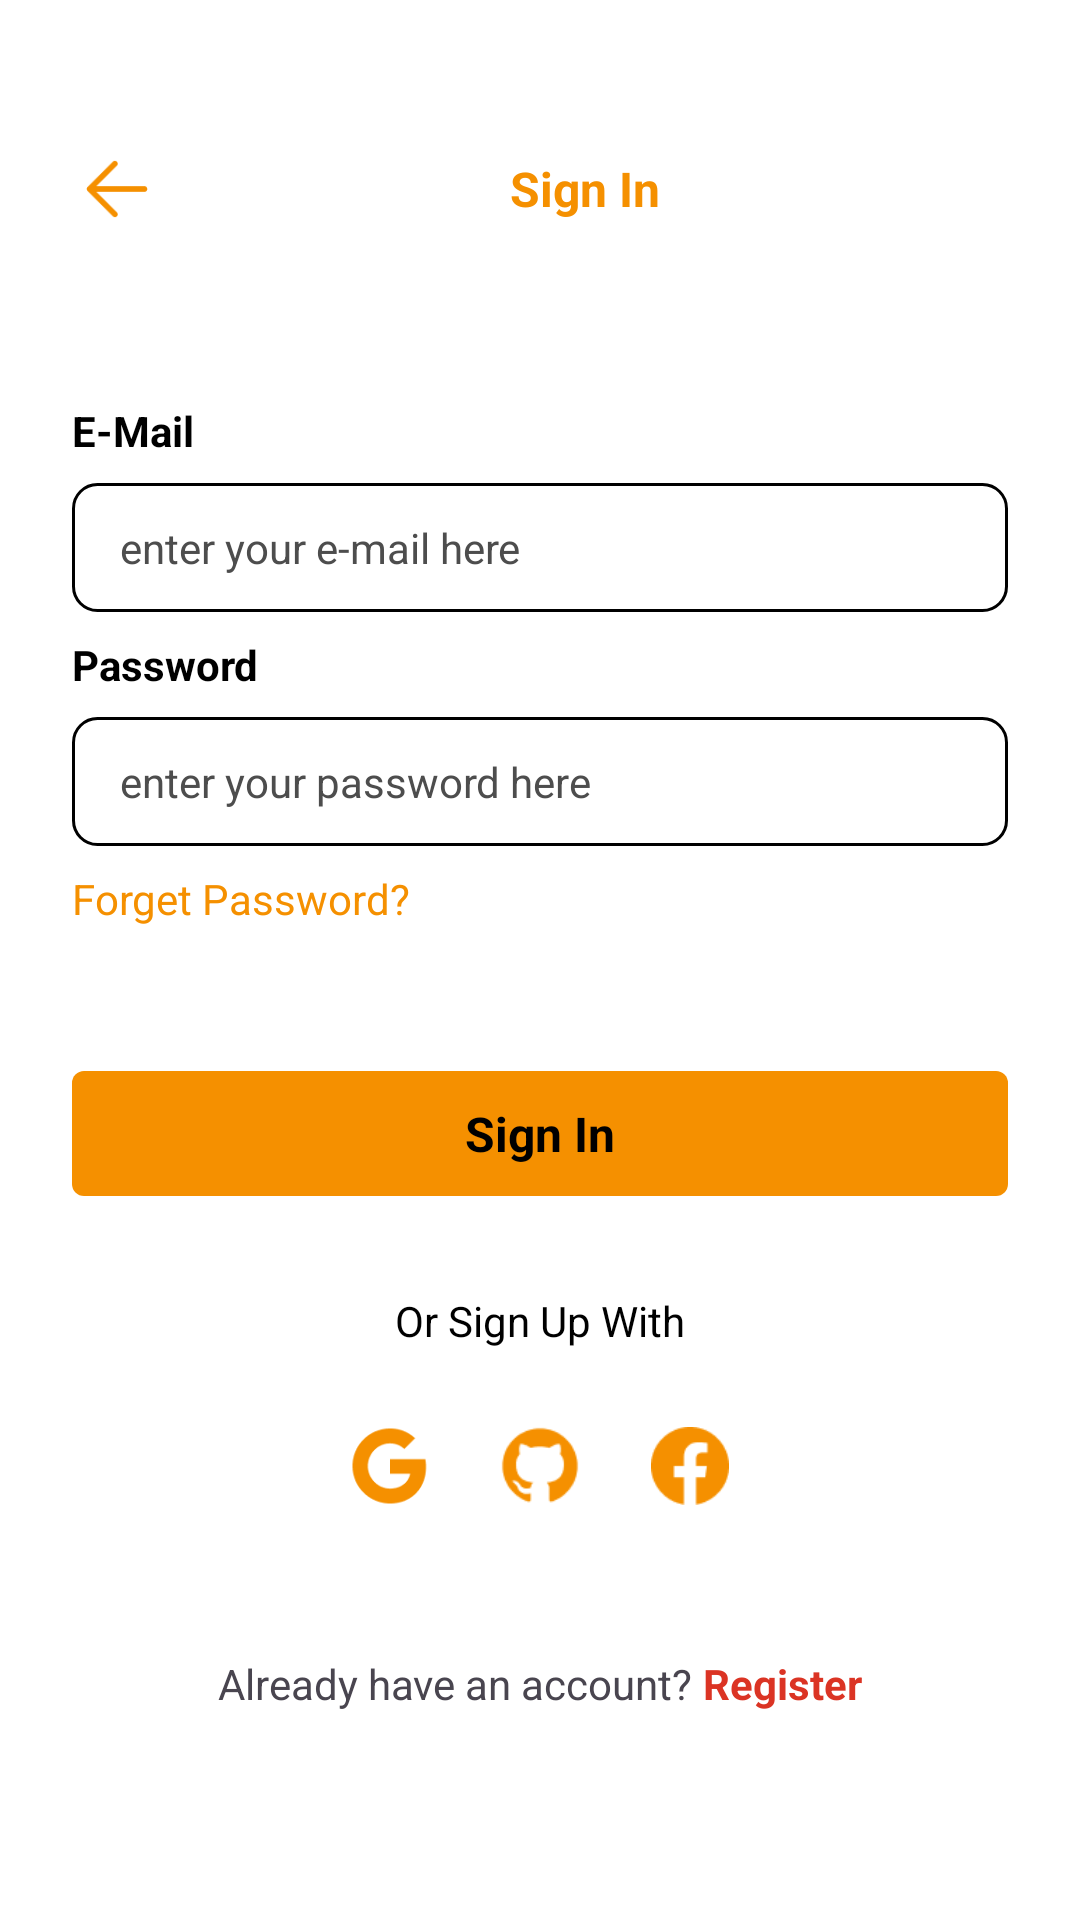

Named icons in this screenshot (1080 × 1920) and their centers, point (x, y):
back arrow: point (117, 189)
